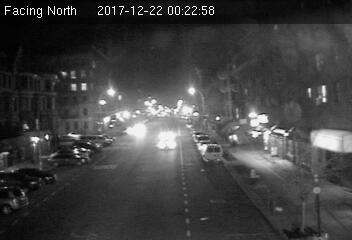car: (155, 138, 178, 150)
truck: (200, 142, 223, 165)
